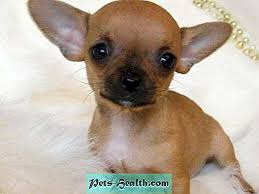Bulldog: (20, 1, 255, 179)
